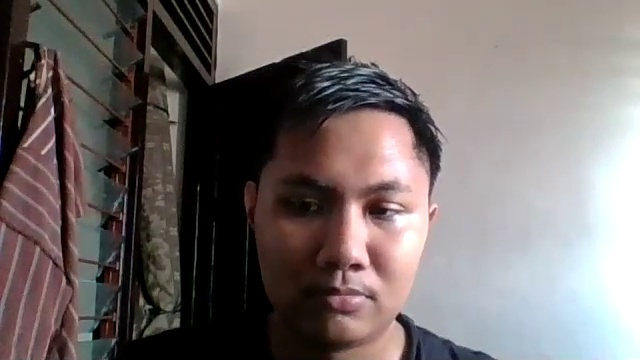Distracted: (236, 117, 437, 341)
